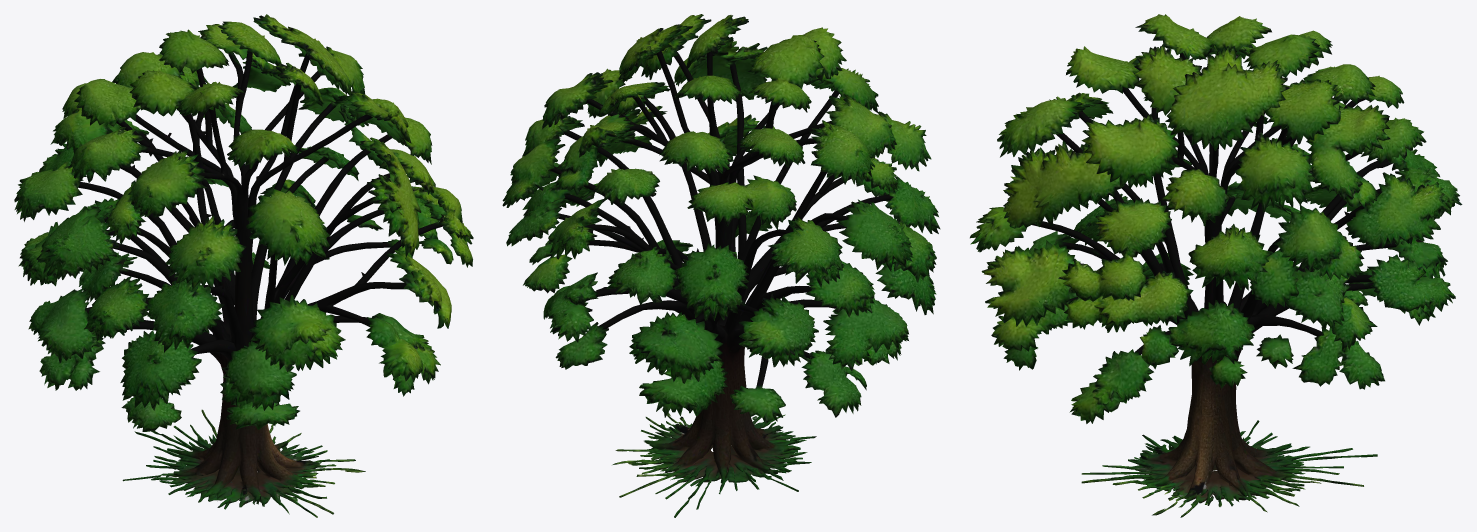
Rendered from tree3d2.glb.
3 views of the same model, side by side, from view 1: azimuth 30°, elevation 25°; view 2: azimuth 150°, elevation 25°; view 3: azimuth 270°, elevation 25° (orthographic). The views are drawn at different scales.
Parts seen in each view (by area): view 1: tripo_node_a1d36b40-e2f1-4958-875c-ed912be24220; view 2: tripo_node_a1d36b40-e2f1-4958-875c-ed912be24220; view 3: tripo_node_a1d36b40-e2f1-4958-875c-ed912be24220.
Boxes of the visible parts, left/top/right/bottom form: tripo_node_a1d36b40-e2f1-4958-875c-ed912be24220: left=14, top=14, right=473, bottom=517; tripo_node_a1d36b40-e2f1-4958-875c-ed912be24220: left=502, top=14, right=940, bottom=517; tripo_node_a1d36b40-e2f1-4958-875c-ed912be24220: left=970, top=14, right=1462, bottom=517.
Size of the model in its own units: 0.937 by 0.9951 by 1.
1 material, 1 textured.
